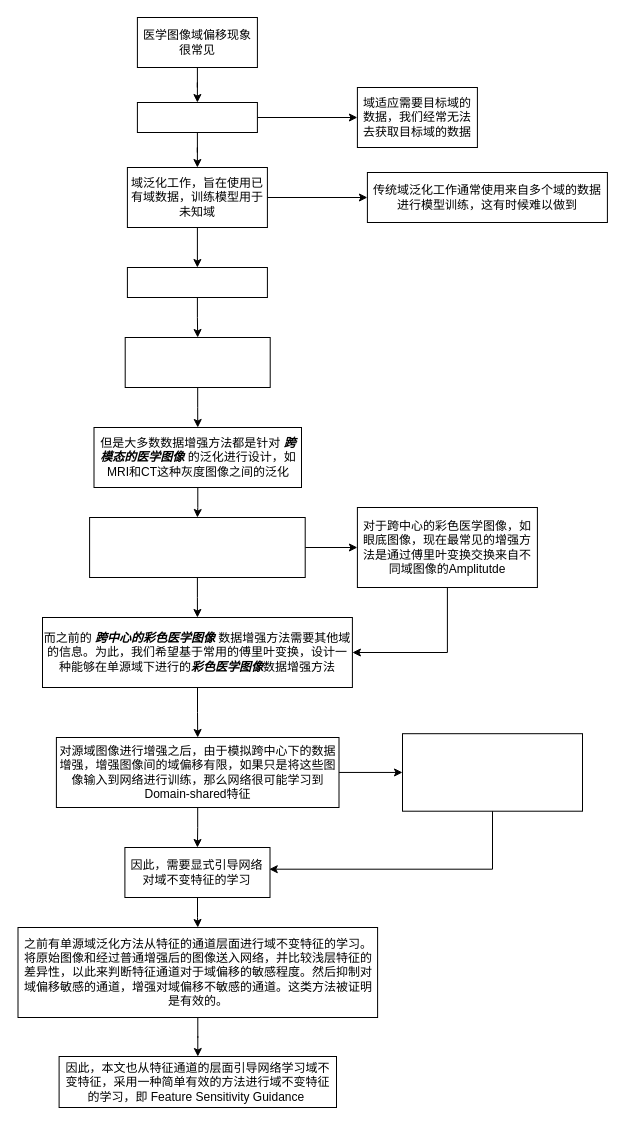
The diagram is 625 pixels wide and 1125 high, and some of its shapes have lost their labels. The shapes that lost their labels are listed below. From the top down, each one's centre as x and y in pixels, then its label:
At point 196,117: "域适应工作出现".
At point 196,282: "单源域泛化工作".
At point 197,362: "在单源域泛化工作中，数据增强是最常用的方法，尤其是对于医学图像来说".
At point 197,547: "对于通常是 跨中心的彩色医学图像 来说，如眼底图像，这些单源域的数据增强方法并不适用".
At point 492,772: "Domain-shared 即已知域的共同特征，并不是对于所有域的共同特征，这可能导致遇到某些未知域时这些特征会失效".
